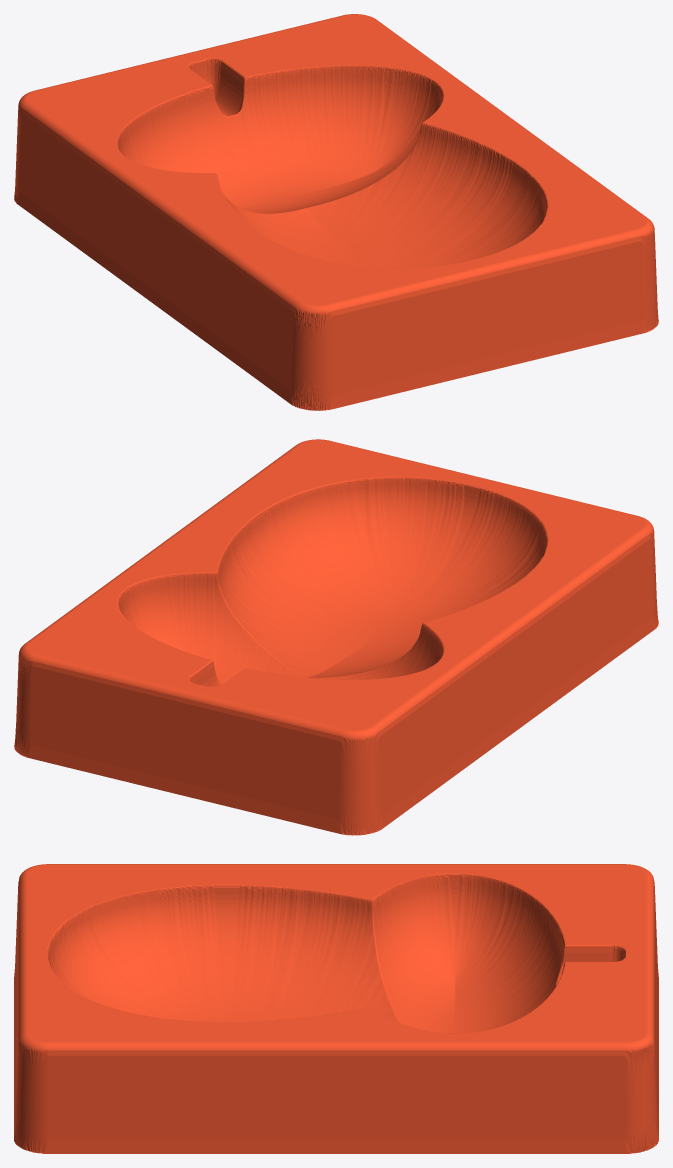
Rendered from mold.glb.
The picture shows the model from 3 angles, top to bottom: view 1: azimuth 30°, elevation 25°; view 2: azimuth 150°, elevation 25°; view 3: azimuth 270°, elevation 25°; orthographic projection. The views are drawn at different scales.
Parts seen in each view (by area): view 1: geometry_0; view 2: geometry_0; view 3: geometry_0.
Boxes of the visible parts, x1,y1,x2,y2 form: geometry_0: (14,14,658,410); geometry_0: (14,439,658,835); geometry_0: (14,864,658,1153).
Size of the model in its own units: 0.1183 by 0.031 by 0.1709.
